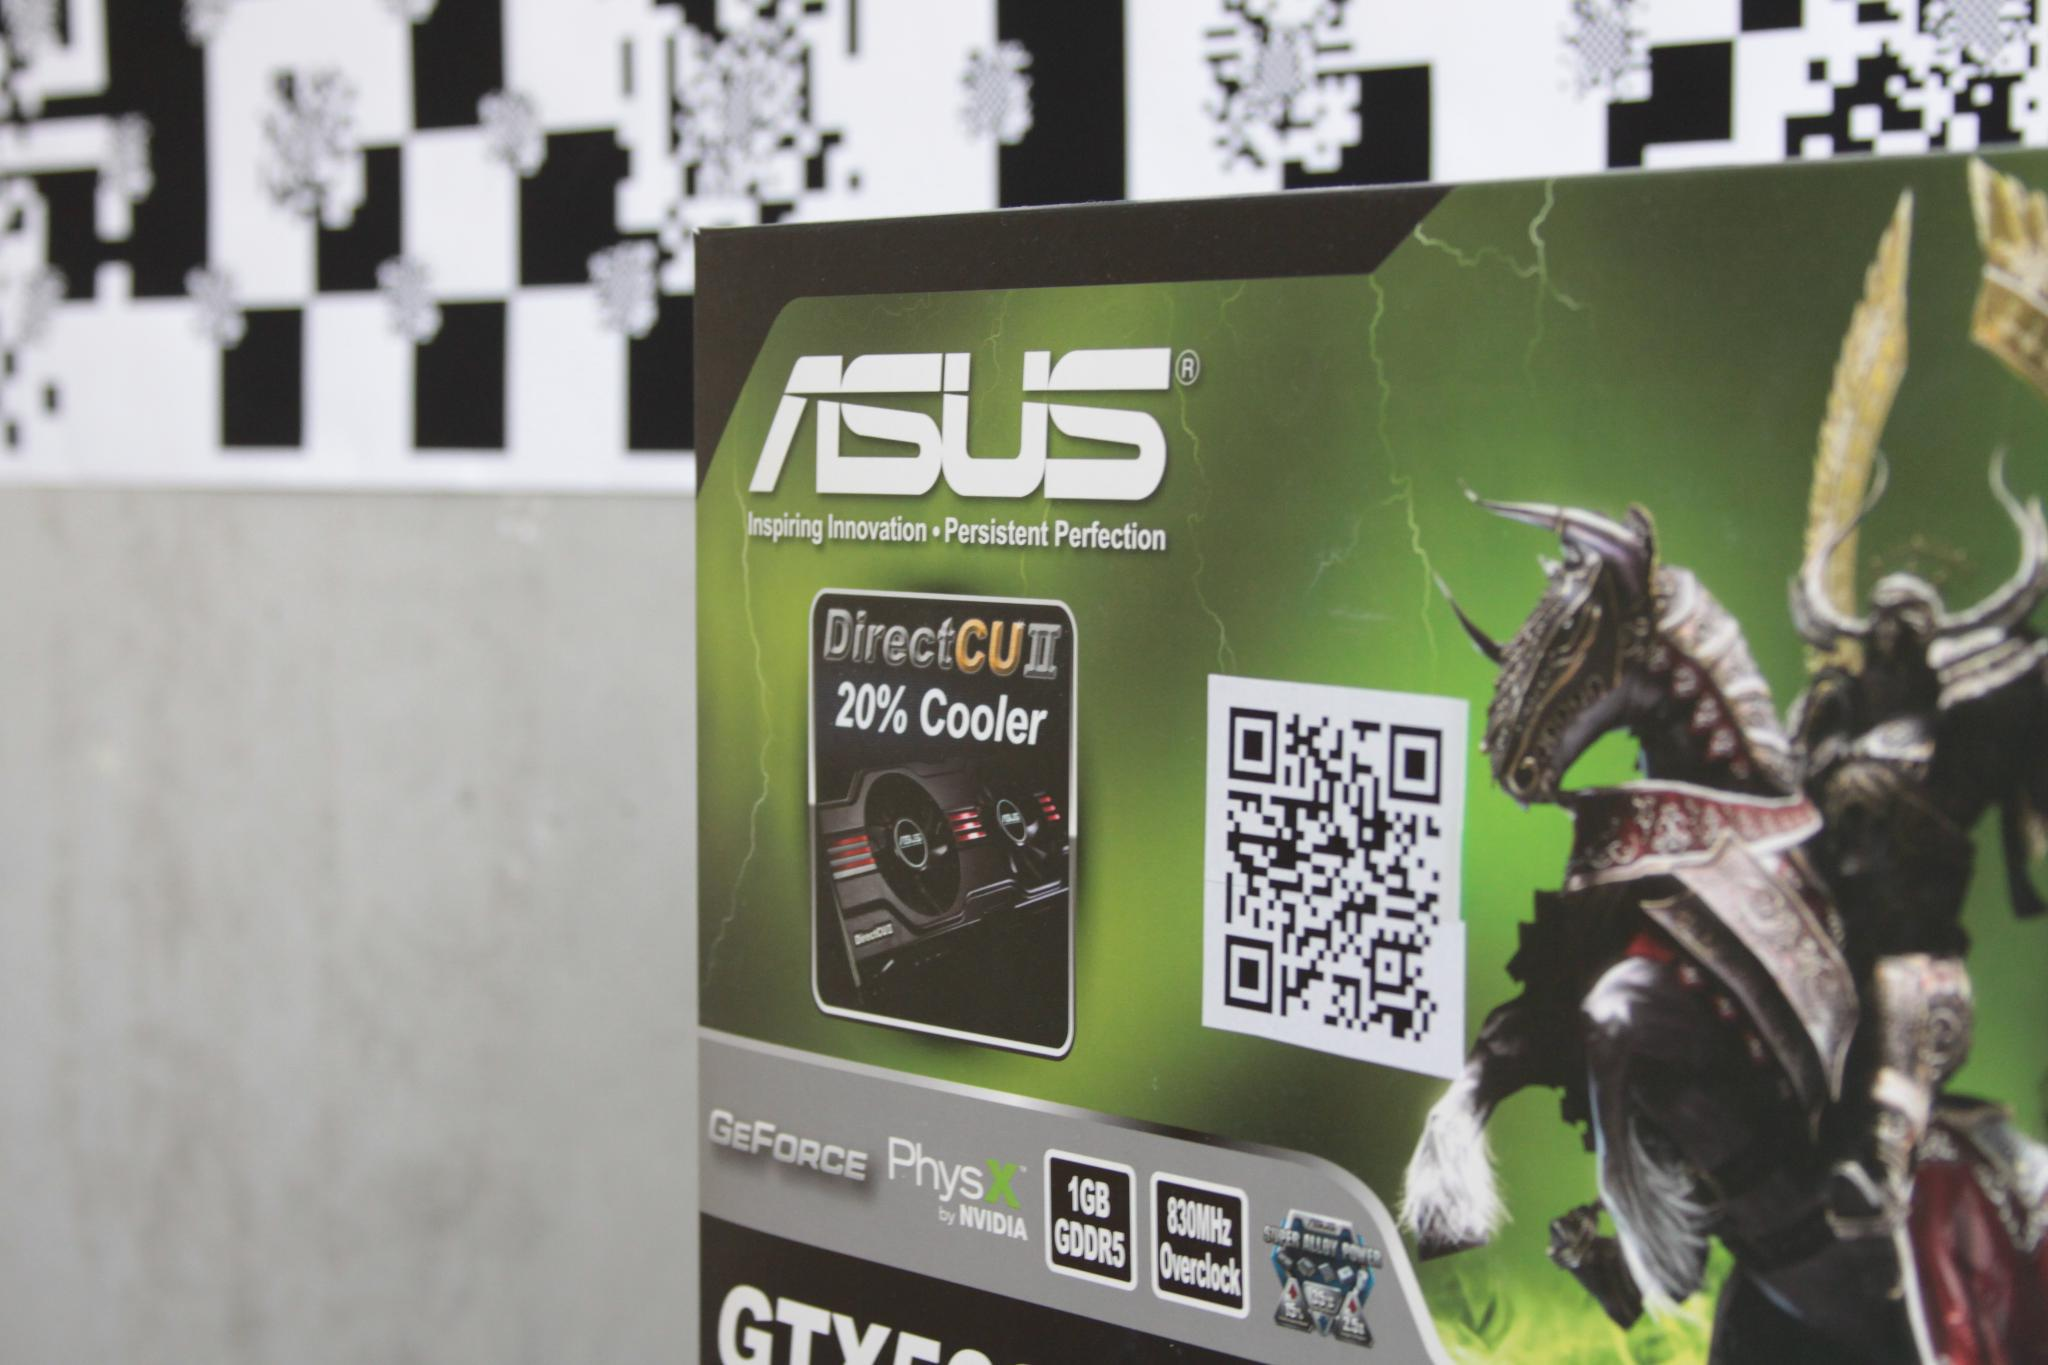Finder pattern: (1211, 925, 1279, 1024), (1218, 698, 1287, 788), (1380, 721, 1453, 804)
